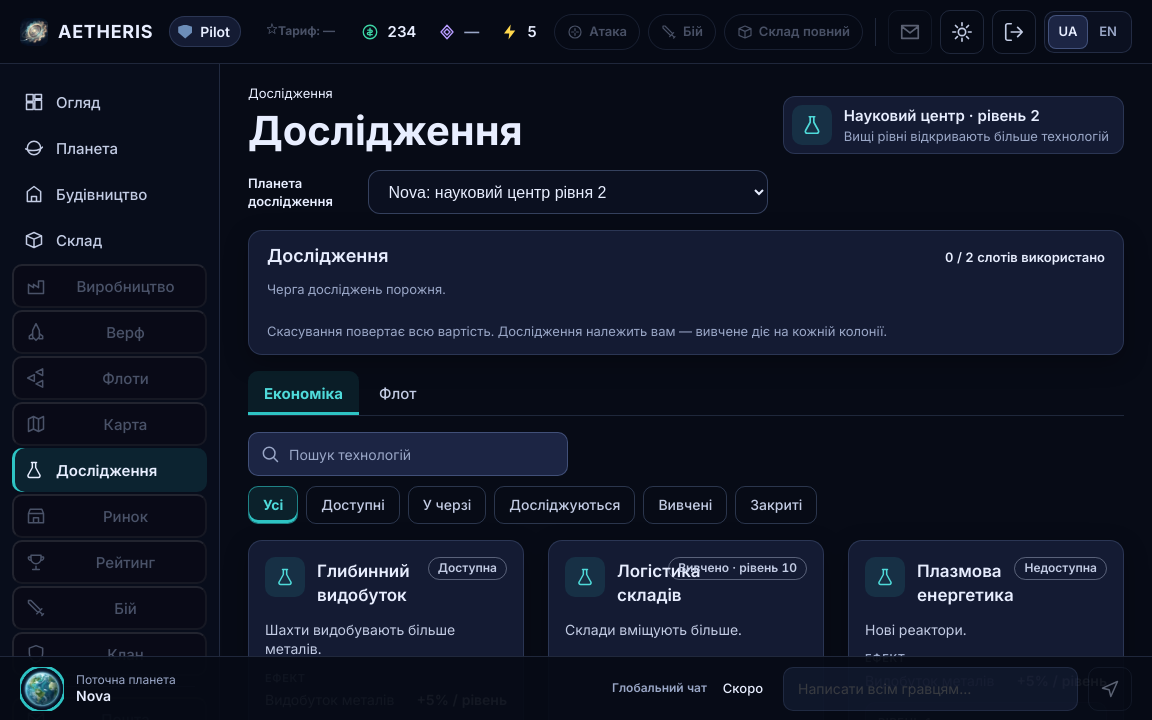
ResearchPage: the screen of the research (task 00020) › shows an empty branch with the reason, and moves between the branches with the arrow keys
Step 1. Click the tab "Флот" → (398, 393), box [363,371,432,415]
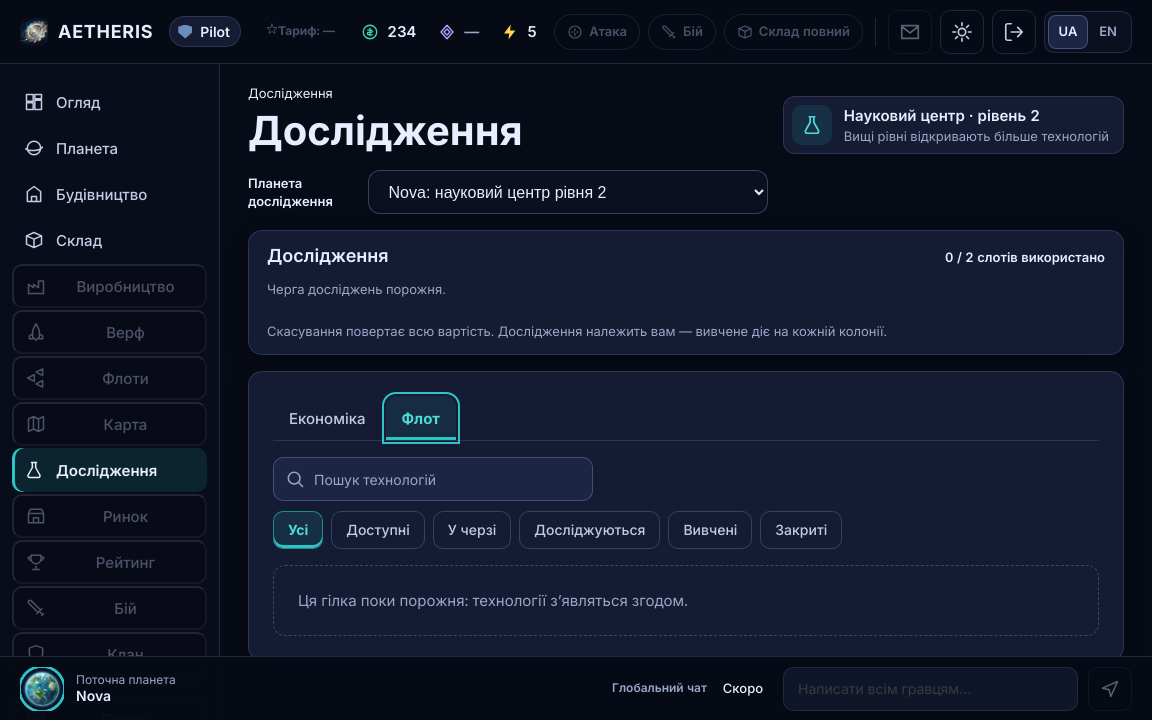
Expected: the text "Ця гілка поки порожня: технології з’являться згодом." is shown, [298,591,688,610]
Expected: the heading "Глибинний видобуток" is gone
Step 2. Press Arrowleft
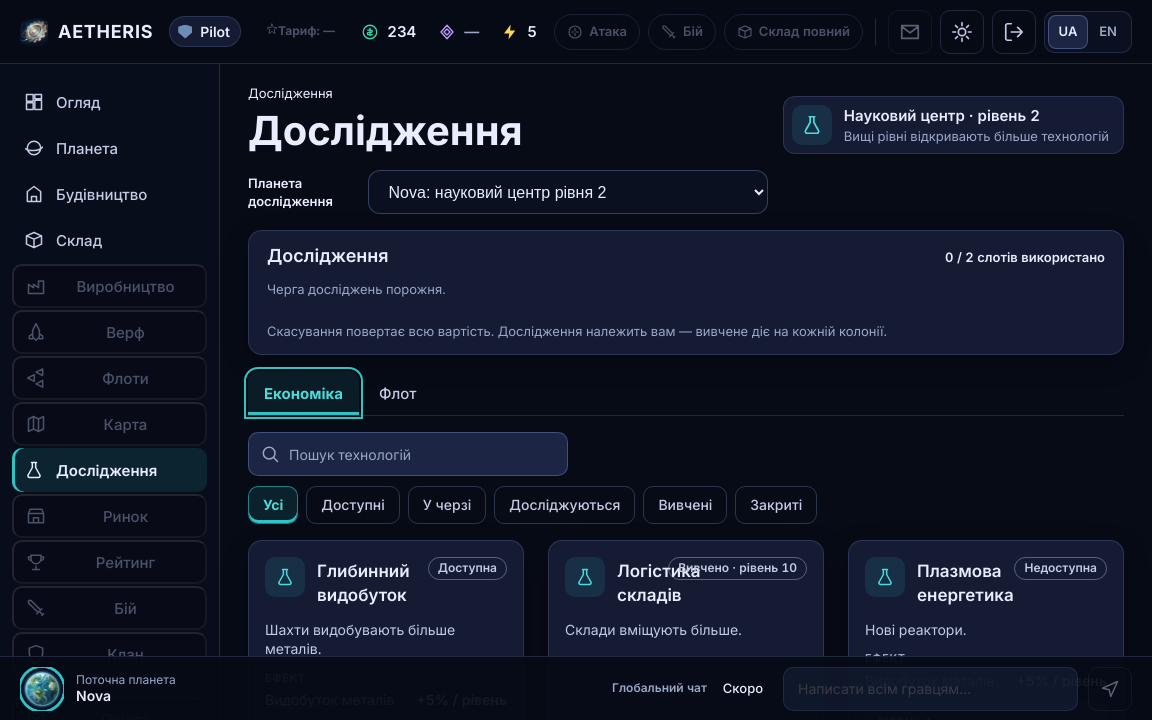
Expected: the heading "Глибинний видобуток" is shown, [317,560,416,608]
